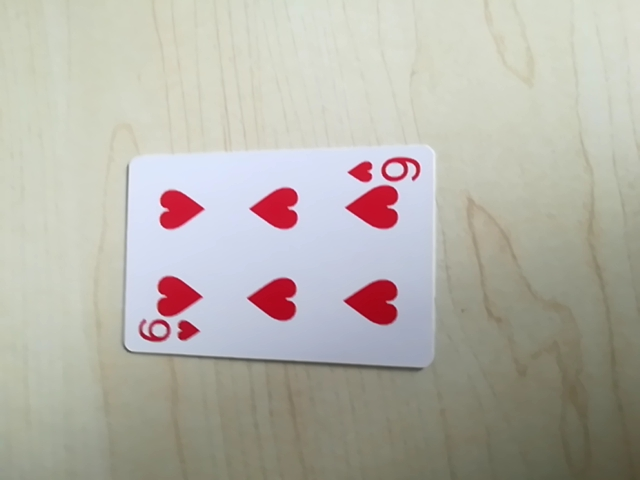hx 6: (344, 152, 422, 187), (134, 318, 201, 351)
